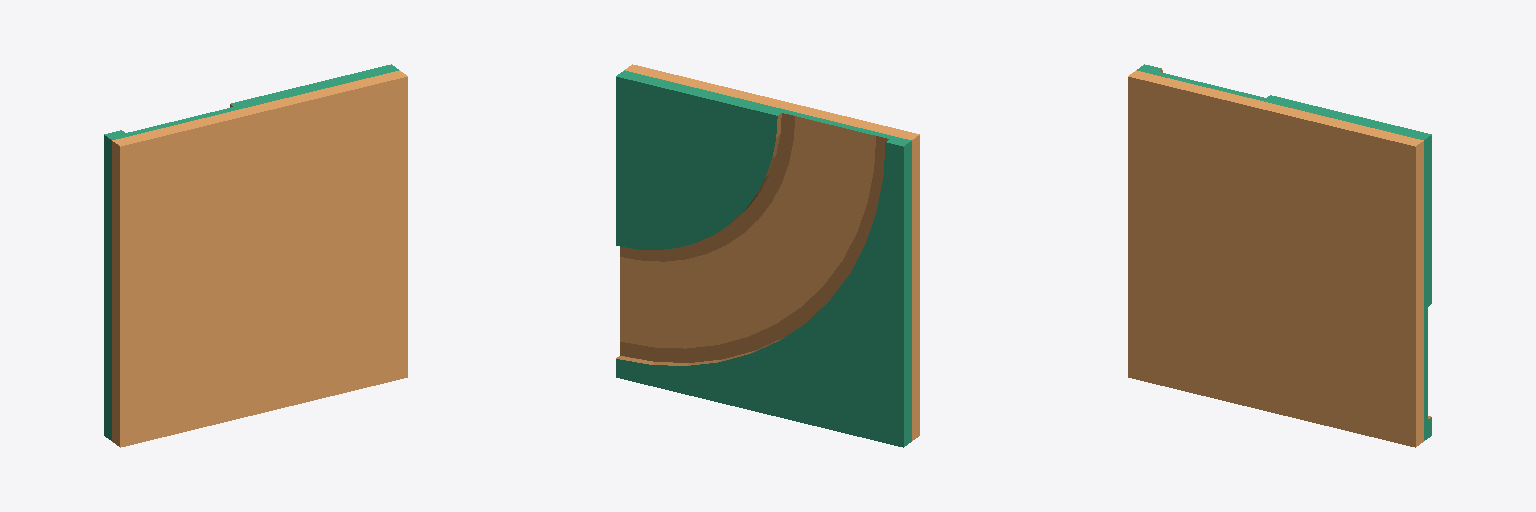
The model's file is tile_cornerLarge.004.obj.
3 renders of one model, left to right at view 1: azimuth 30°, elevation 25°; view 2: azimuth 150°, elevation 25°; view 3: azimuth 330°, elevation 25°, orthographic.
Parts seen in each view (by area): view 1: tile_cornerLarge.006; view 2: tile_cornerLarge.006; view 3: tile_cornerLarge.006.
Boxes of the visible parts, x1=… form: tile_cornerLarge.006: x1=104, y1=64, x2=407, y2=447; tile_cornerLarge.006: x1=616, y1=64, x2=919, y2=447; tile_cornerLarge.006: x1=1128, y1=64, x2=1431, y2=447.
Size of the model in its own units: 2 by 2 by 0.2.